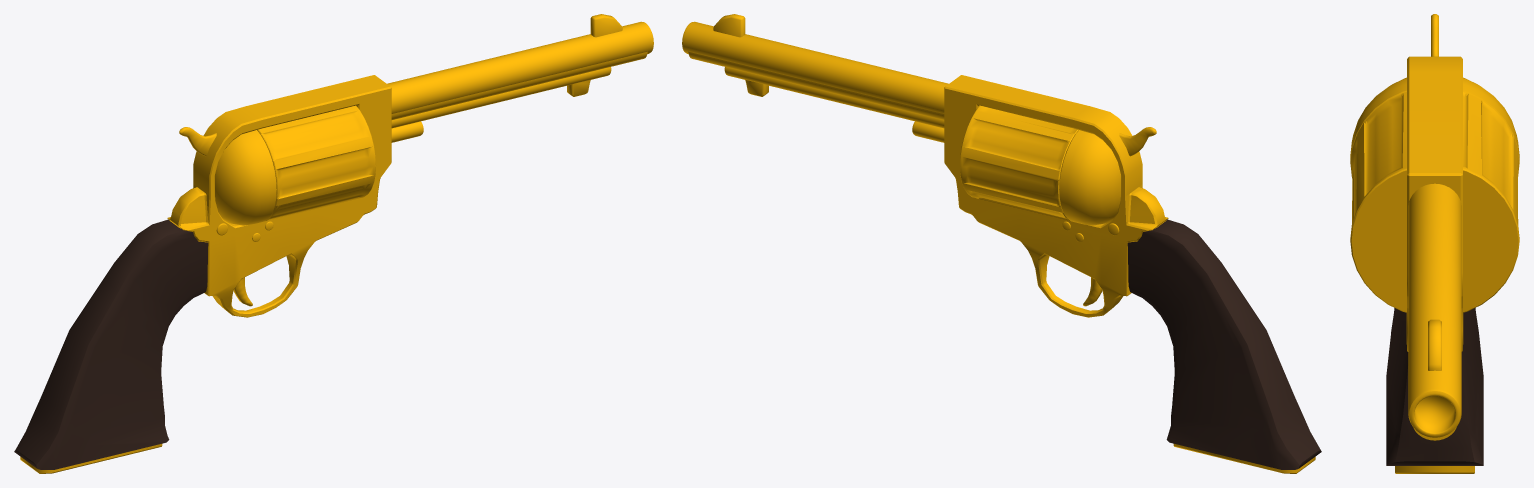
Rendered from GOLD_IRON.glb.
3 renders of one model, left to right at view 1: azimuth 30°, elevation 25°; view 2: azimuth 150°, elevation 25°; view 3: azimuth 270°, elevation 25°, orthographic. The views are drawn at different scales.
Parts seen in each view (by area): view 1: GOLD_IRON, GOLD_IRON_TAMBOR; view 2: GOLD_IRON, GOLD_IRON_TAMBOR; view 3: GOLD_IRON, GOLD_IRON_TAMBOR.
Boxes of the visible parts, <box> form: GOLD_IRON: <box>14,14,653,473</box>; GOLD_IRON_TAMBOR: <box>215,105,375,225</box>; GOLD_IRON: <box>682,14,1321,473</box>; GOLD_IRON_TAMBOR: <box>960,105,1120,225</box>; GOLD_IRON: <box>1386,14,1483,473</box>; GOLD_IRON_TAMBOR: <box>1350,77,1519,312</box>.
Size of the model in its own units: 0.8849 by 0.4259 by 0.1297.
